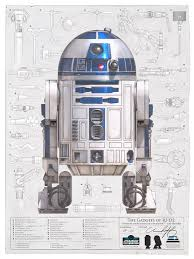r2d2: (38, 27, 157, 213)
